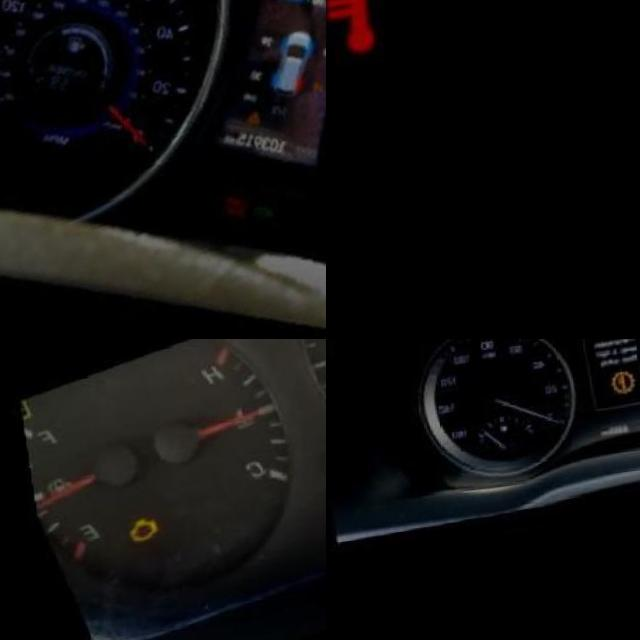High Engine Coolant Temperature: (326, 0, 389, 75)
Low fuel level: (494, 434, 500, 441)
